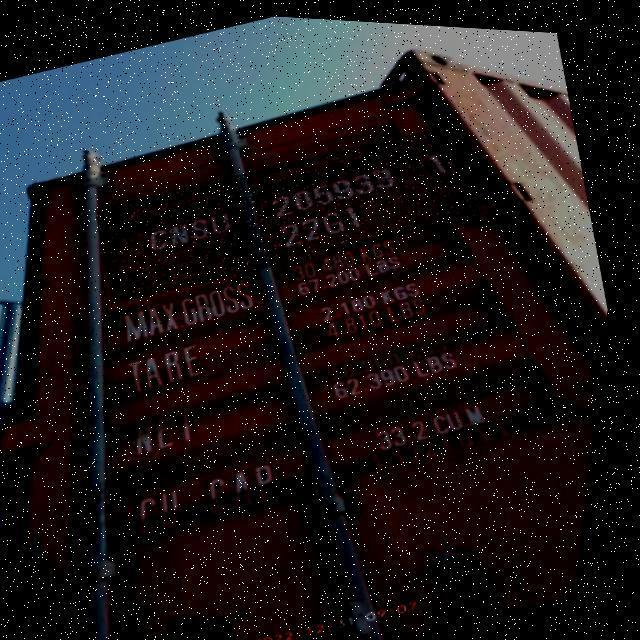container_number_h: (91, 100, 494, 319)
